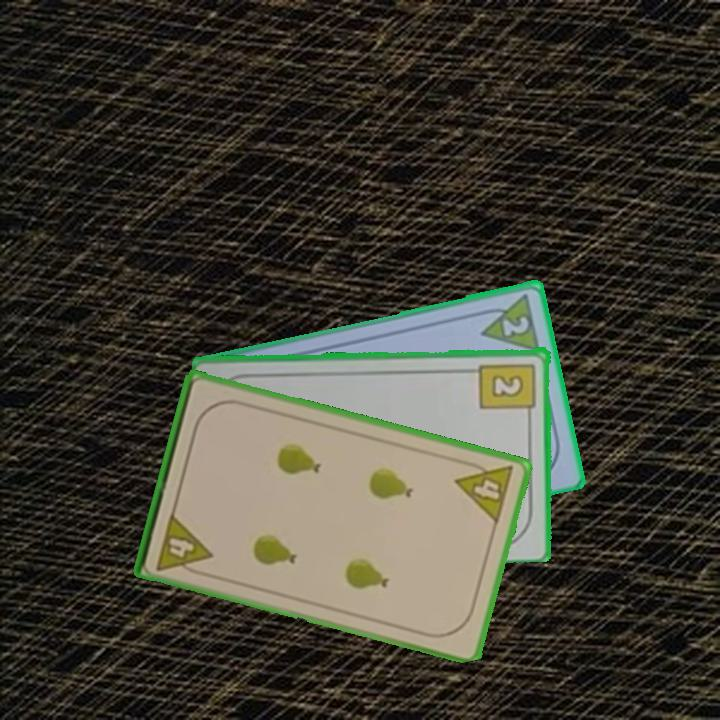2b: (477, 359, 539, 420)
2p: (474, 289, 544, 354)
4p: (452, 455, 517, 527), (152, 509, 215, 579)
